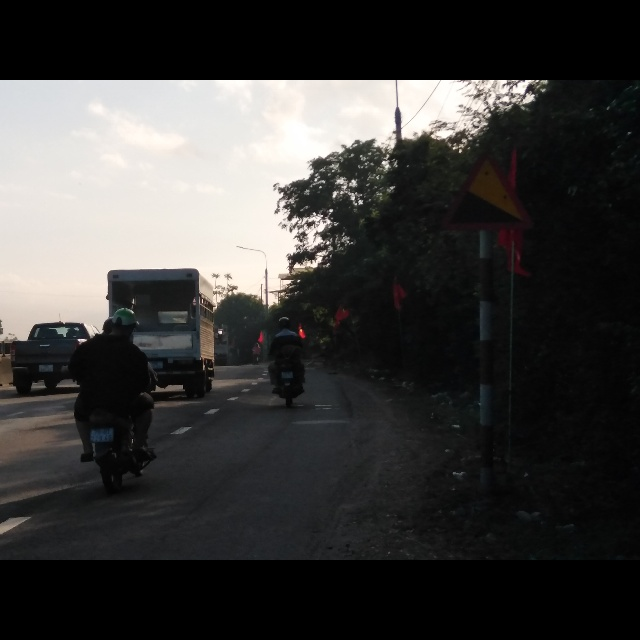Dốc lên nguy hiểm: (440, 146, 532, 233)
